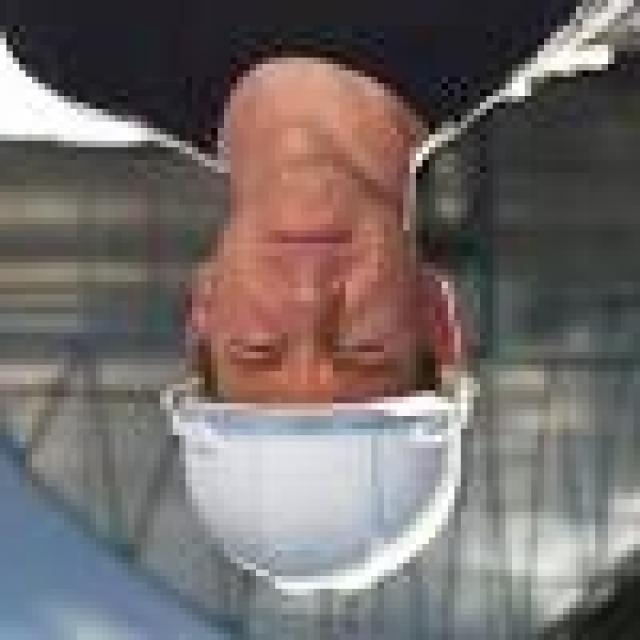safetyhelmet: (147, 274, 481, 600)
